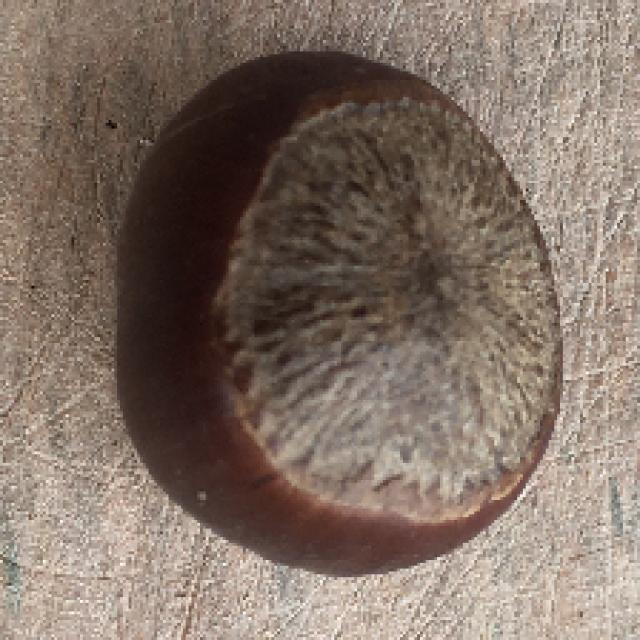qualityHazelnut: (102, 45, 571, 578)
